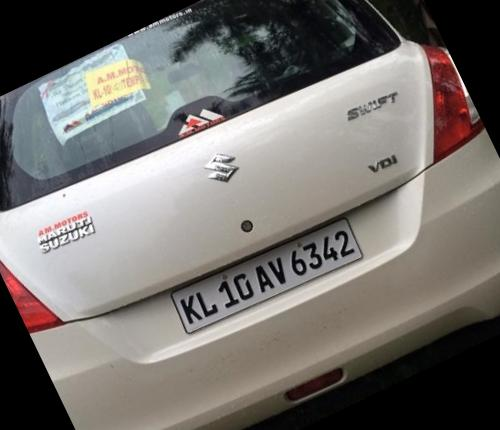plate: (161, 198, 375, 352)
